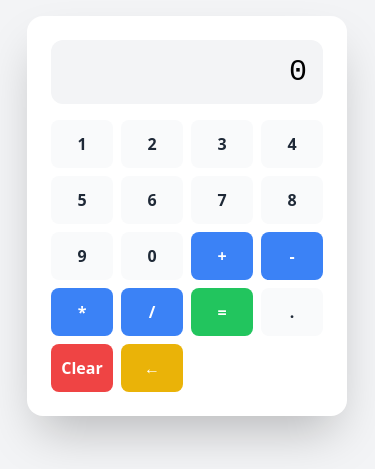
Test: handles multiplication correctly
The image size is (375, 469).
Step 1. Click the button "4" → (292, 144), box [261,120,323,168]
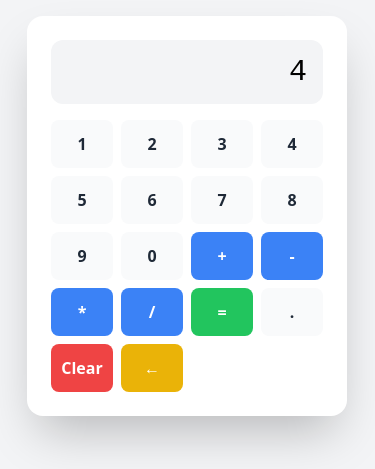
Step 2. Click the button "*" → (82, 312), box [51,288,113,336]
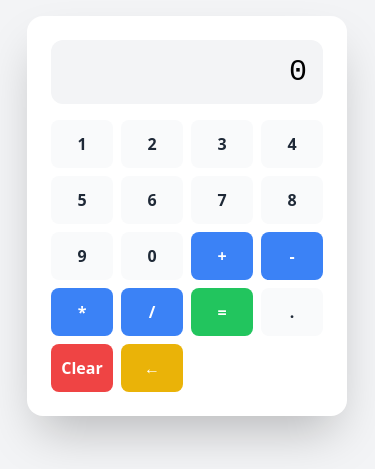
Step 3. Click the button "5" → (82, 200), box [51,176,113,224]
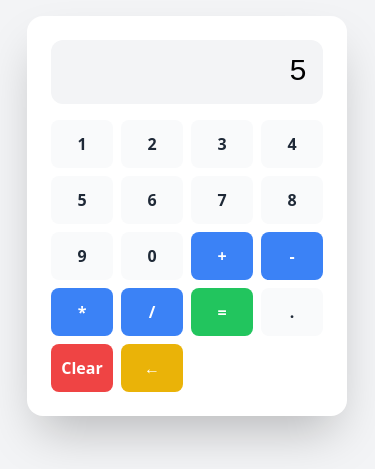
Step 4. Click the button "=" → (222, 312), box [191,288,253,336]
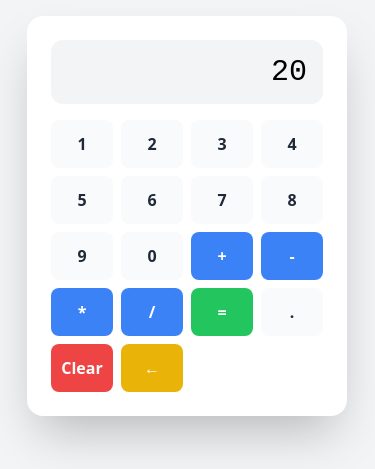
Check: the text with test id "calculator-display" reads "20", box [271,55,307,89]
